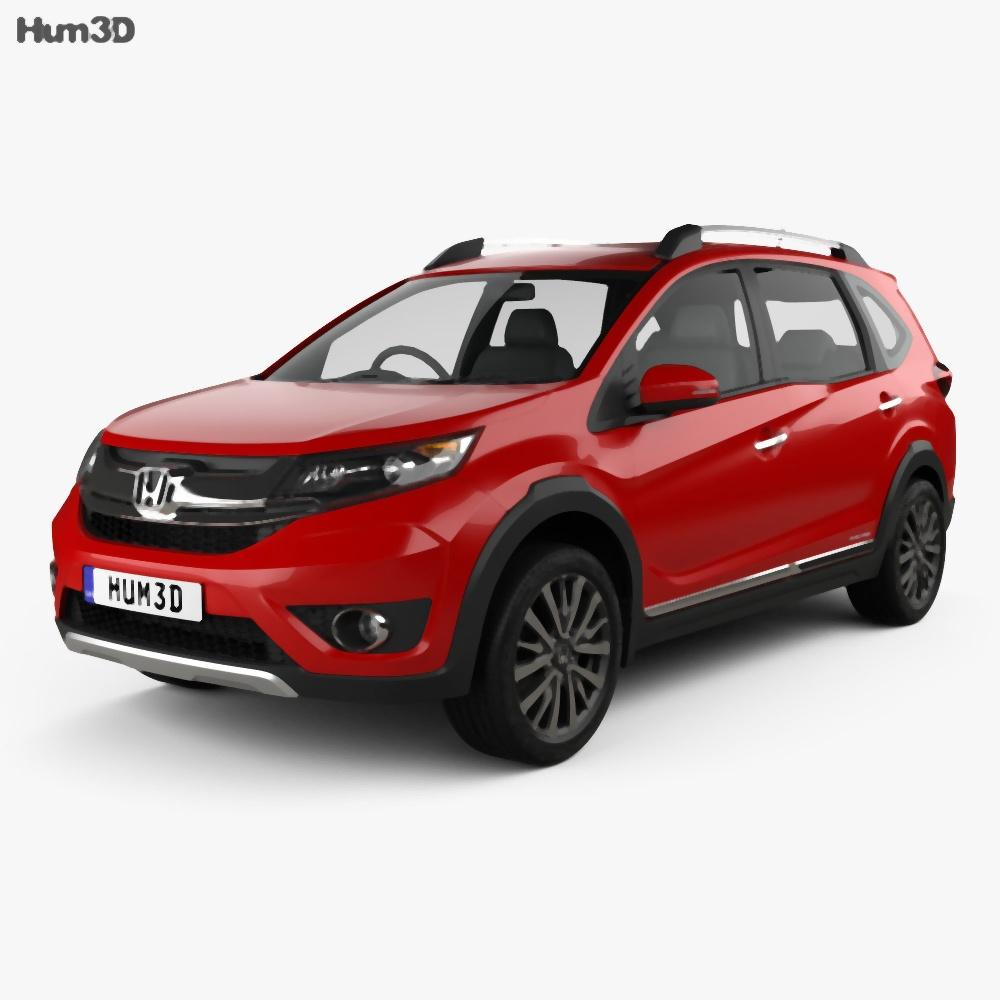Car hood: (85, 370, 574, 470)
Fender - -F-L-: (470, 349, 624, 540)
Front bumper: (42, 494, 470, 707)
Headlight - -L-: (282, 420, 482, 525)
Passenger-s door - -F-L-: (615, 227, 779, 649)
Passenger-s door - -R-L-: (745, 222, 897, 596)
Rear bumper: (909, 402, 981, 517)
Rear light - -L-: (920, 359, 965, 400)
Side bumper - -L-: (629, 517, 882, 698)
Side mirror - -L-: (635, 355, 721, 420)
